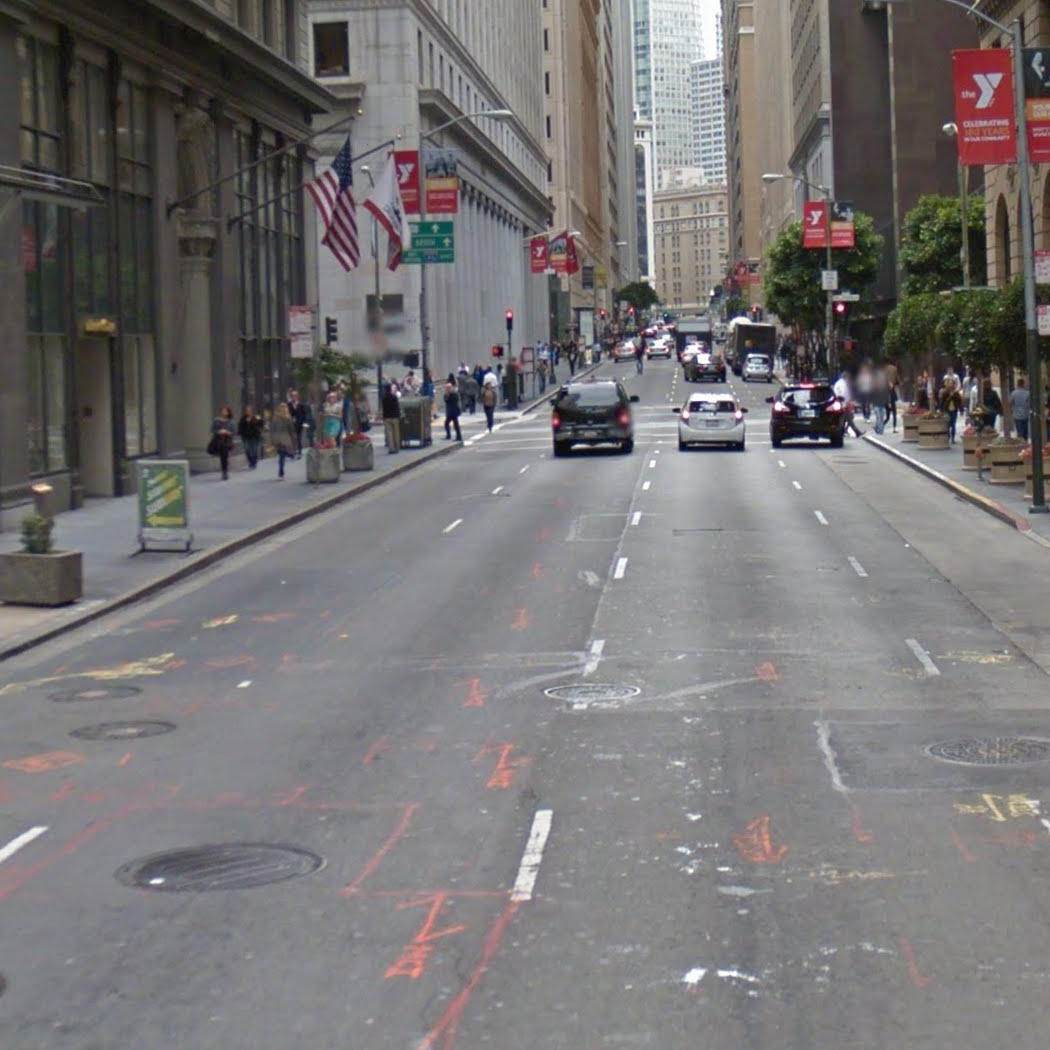2 Hour Parking: (289, 334, 315, 358)
No Parking: (287, 304, 313, 333), (1033, 249, 1049, 287), (1037, 303, 1049, 336)
